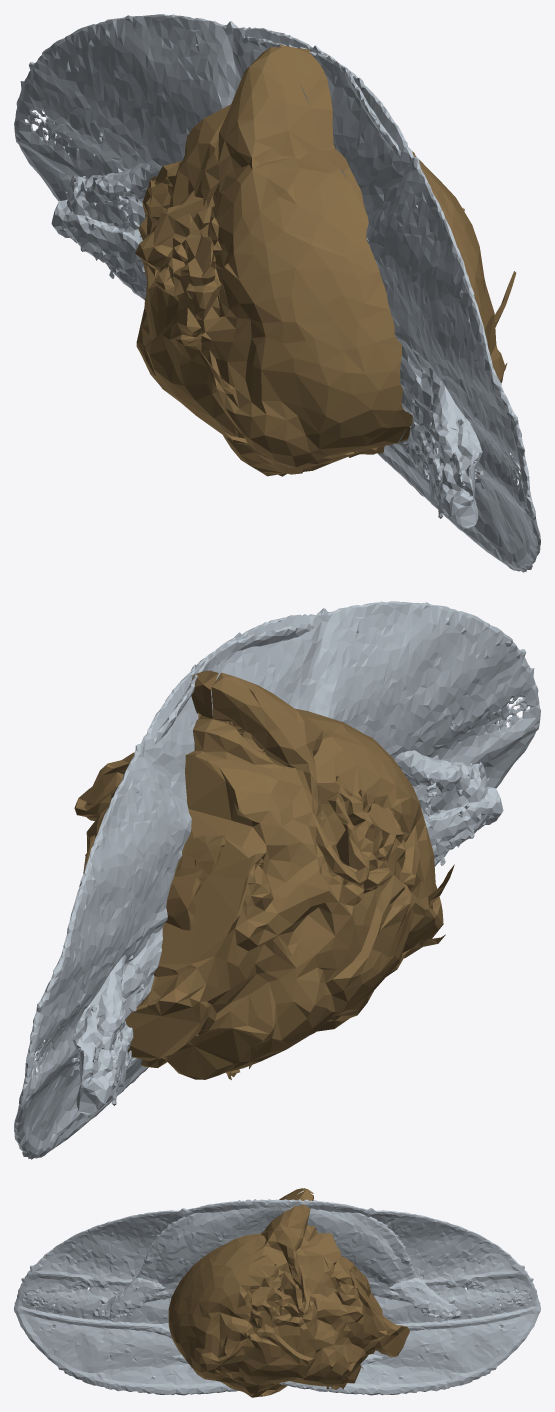
File: neuromechfly.glb
3 renders of one model, top to bottom at view 1: azimuth 30°, elevation 25°; view 2: azimuth 150°, elevation 25°; view 3: azimuth 270°, elevation 25°, orthographic. The views are drawn at different scales.
Parts seen in each view (by area): view 1: Thorax, RWing, LWing; view 2: Thorax, RWing, LWing, A3, A4; view 3: Thorax, LWing, RWing.
Part boxes in pixels (x1=…): Thorax: x1=135, y1=44, x2=516, y2=476; RWing: x1=51, y1=36, x2=540, y2=572; LWing: x1=14, y1=14, x2=484, y2=530; Thorax: x1=74, y1=670, x2=454, y2=1079; RWing: x1=70, y1=601, x2=540, y2=1117; LWing: x1=14, y1=623, x2=503, y2=1159; A3: x1=165, y1=870, x2=201, y2=930; A4: x1=174, y1=835, x2=225, y2=885; Thorax: x1=168, y1=1188, x2=409, y2=1397; LWing: x1=93, y1=1199, x2=540, y2=1395; RWing: x1=14, y1=1199, x2=461, y2=1395.
Size of the model in its own units: 0.9516 by 1.11 by 2.69.
